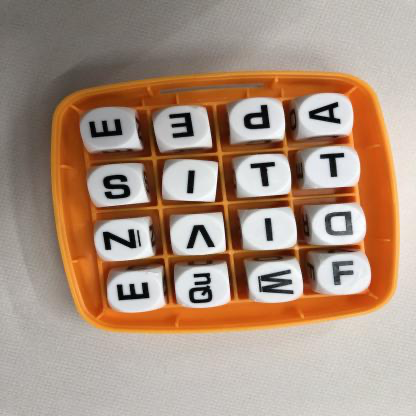a: (298, 93, 354, 133)
d: (309, 204, 364, 245)
e: (153, 105, 213, 148), (81, 108, 138, 151), (107, 271, 163, 313)
f: (316, 253, 372, 296)
i: (164, 160, 218, 202), (241, 209, 296, 250)
p: (229, 99, 286, 139)
qu: (174, 265, 230, 308)
s: (87, 164, 144, 204)
t: (303, 146, 360, 188), (234, 157, 291, 198)
v: (170, 214, 226, 256)
w: (246, 262, 304, 304)
z: (94, 219, 150, 260)
